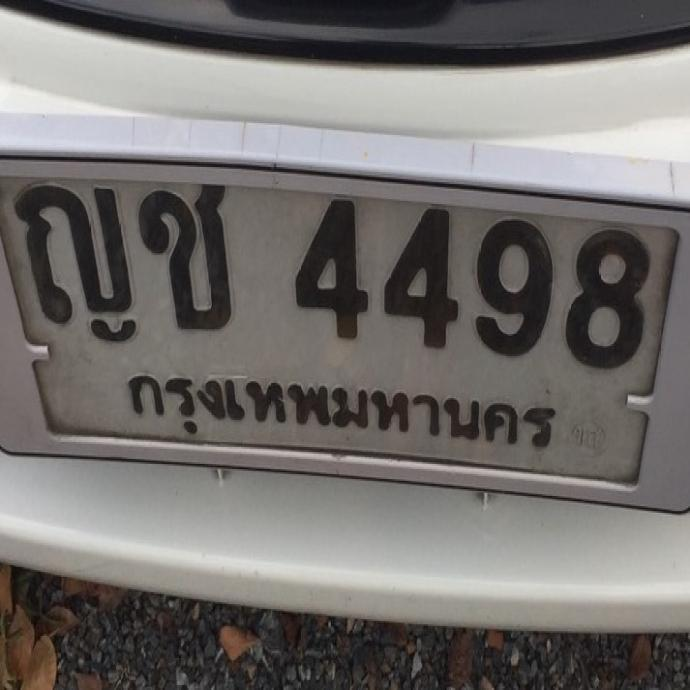4: (377, 203, 462, 357), (290, 190, 372, 349)
8: (561, 227, 655, 378)
9: (470, 213, 557, 363)
A10: (141, 173, 230, 339)
A13: (16, 182, 143, 346)
BKK: (119, 363, 566, 464)
